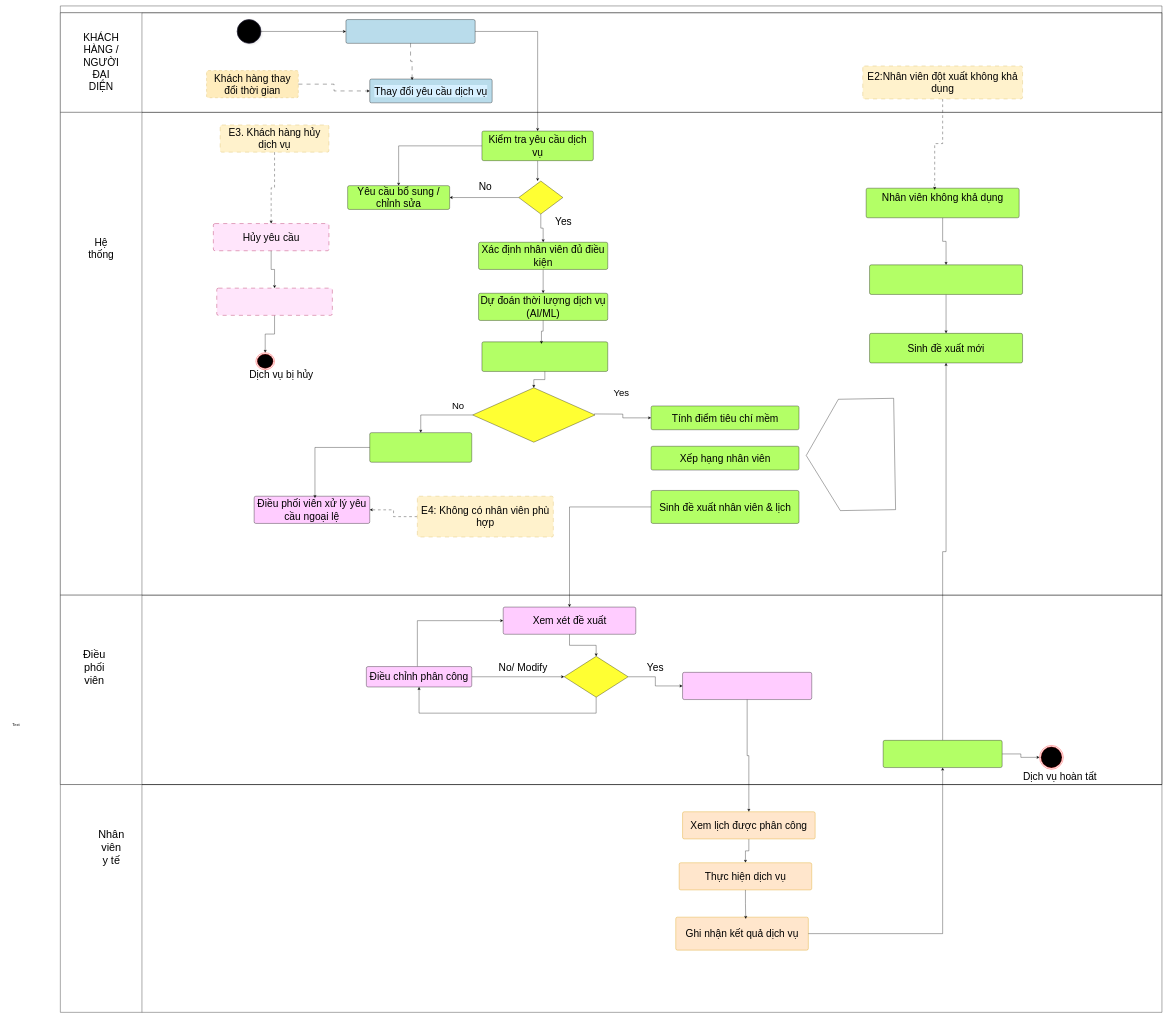
This 1168x1018 diagram has some shape labels left out. Here are the shapes that lost their labels. From the top down, the centre of each, then its label:
At point (410, 31): "Tạo yêu cầu dịch vụ".
At point (540, 197): "Valid?".
At point (946, 279): "Kiểm tra lại ràng buộc".
At point (274, 301): "Hủy phân công".
At point (545, 356): "Kiểm tra ràng buộc cứng".
At point (533, 414): "Không có phương án khả thi".
At point (420, 447): "Xử lý thủ công".
At point (850, 454): "SkillFit TimeFit Distance Workload Balance Continuity".
At point (596, 676): "Approve?".
At point (747, 686): "Xác nhận phân công".
At point (942, 754): "Cập nhật báo cáo / KPI".
